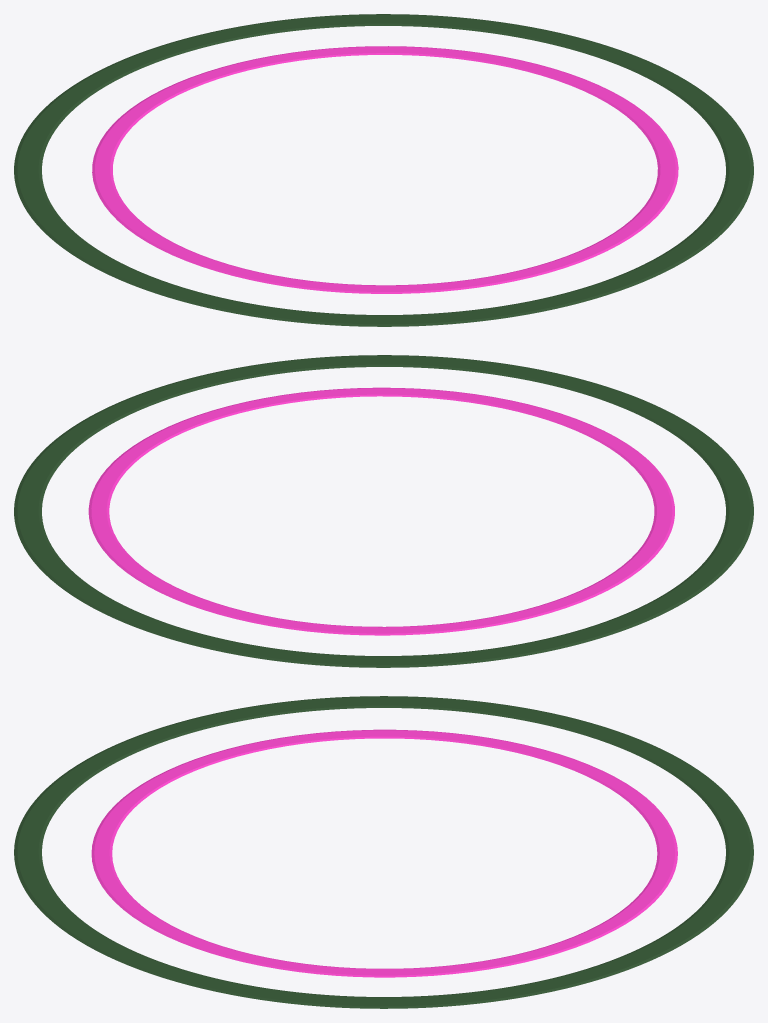
Rendered from LL Floor Ring Accents.FBX.
3 views of the same model, one above another, from view 1: azimuth 30°, elevation 25°; view 2: azimuth 150°, elevation 25°; view 3: azimuth 270°, elevation 25° (orthographic).
Visible parts, largest first — view 1: Tube084, Tube082; view 2: Tube084, Tube082; view 3: Tube084, Tube082.
Boxes of the visible parts, <box> form: Tube084: <box>14,14,753,326</box>; Tube082: <box>92,46,678,293</box>; Tube084: <box>14,355,753,667</box>; Tube082: <box>88,387,674,635</box>; Tube084: <box>14,696,753,1008</box>; Tube082: <box>91,729,677,977</box>.
Size of the model in its own units: 84.96 by 0.158 by 84.96.
